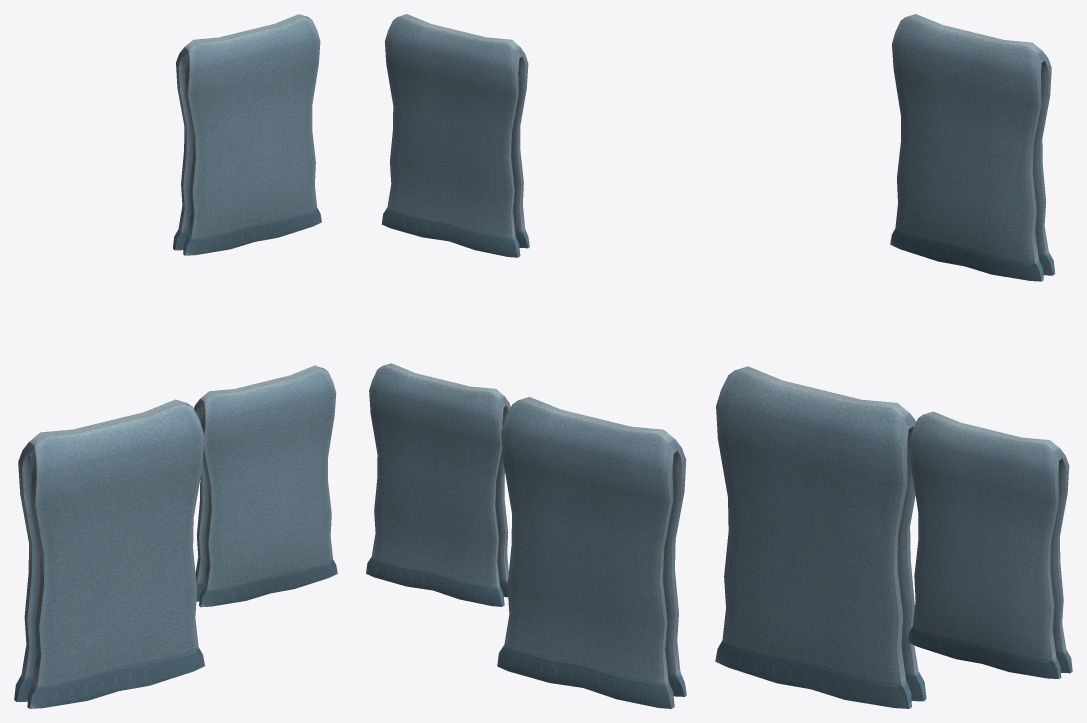
The model's file is tovallola_desplegada.FBX.
3 views of the same model, side by side, from view 1: azimuth 30°, elevation 25°; view 2: azimuth 150°, elevation 25°; view 3: azimuth 330°, elevation 25° (orthographic). The views are drawn at different scales.
Parts seen in each view (by area): view 1: tovallola_desplegada_LP; view 2: tovallola_desplegada_LP; view 3: tovallola_desplegada_LP.
Boxes of the visible parts, left/top/right/bottom form: tovallola_desplegada_LP: left=14, top=14, right=337, bottom=708; tovallola_desplegada_LP: left=366, top=14, right=686, bottom=708; tovallola_desplegada_LP: left=715, top=14, right=1072, bottom=708.
Bounding box in the file's own units: 325 × 627 × 42.07.
